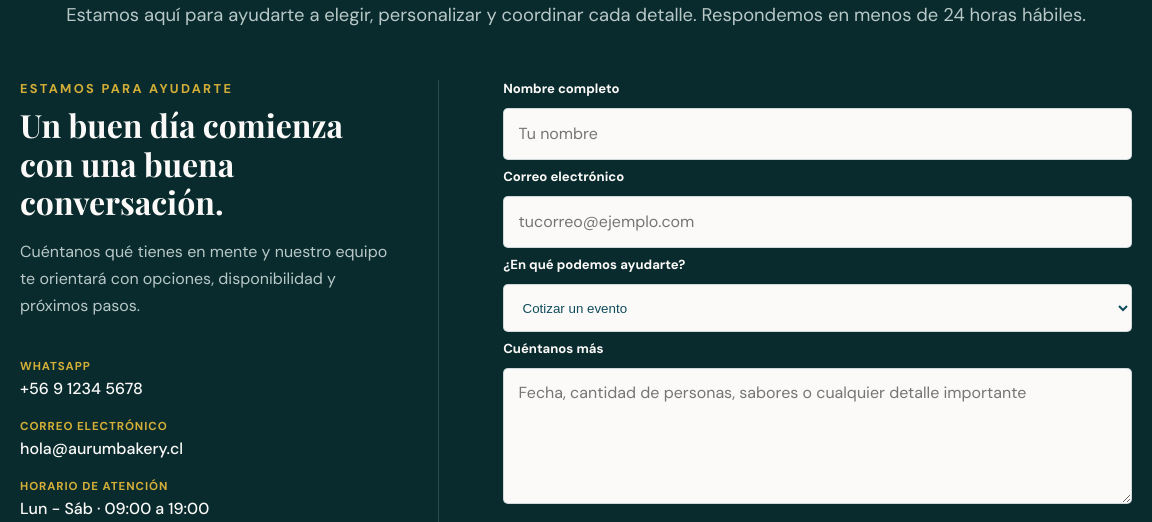
Test: Página de Contacto › muestra el mensaje de confirmación al simular el envío del formulario
The width and height of the screenshot is (1152, 522).
Llenamos los campos obligatorios primero
In the field labelled "Nombre completo": (818, 134) top-left (503, 108), bottom-right (1132, 160), type "Juan Perez"
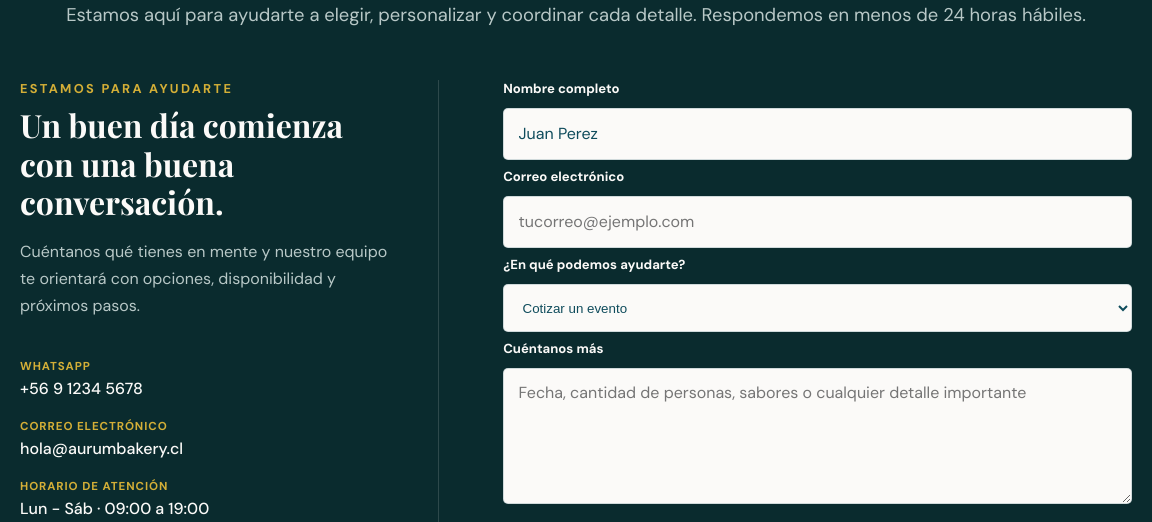
In the field labelled "Correo electrónico": (818, 222) top-left (503, 196), bottom-right (1132, 248), type "juan@ejemplo.com"
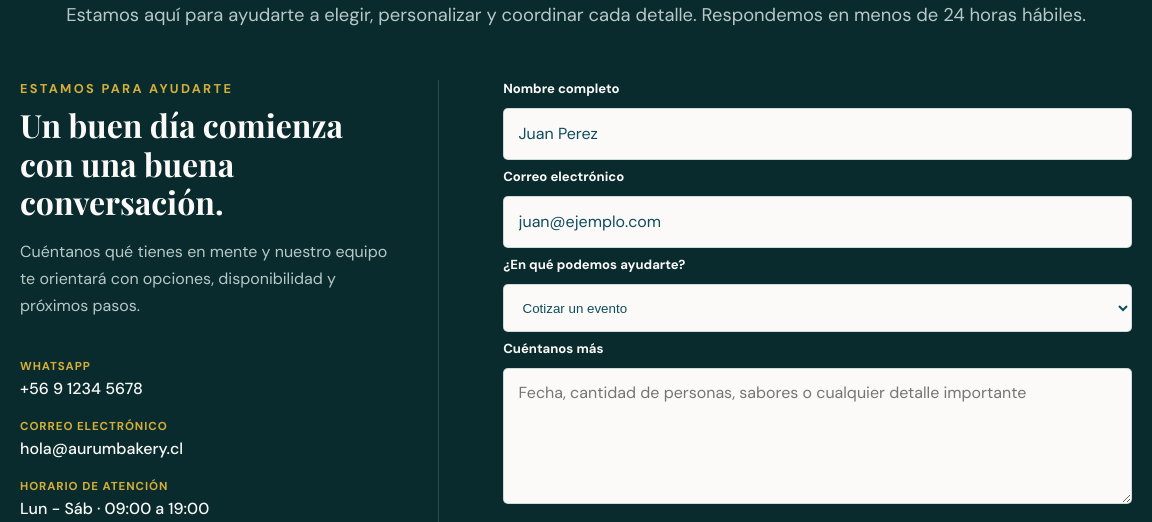
Replace the text in the text box labelled "Cuéntanos más" with "Cotización de prueba": (818, 436) top-left (503, 368), bottom-right (1132, 504)
(page scrolled)
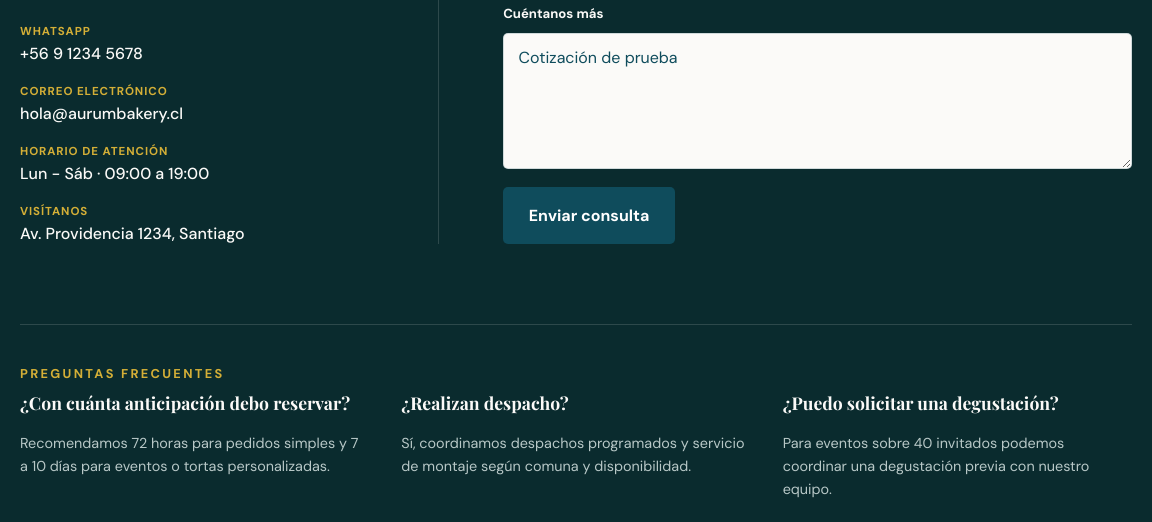
Hacemos clic en enviar
Click the button "Enviar consulta": (589, 216) top-left (503, 187), bottom-right (675, 244)
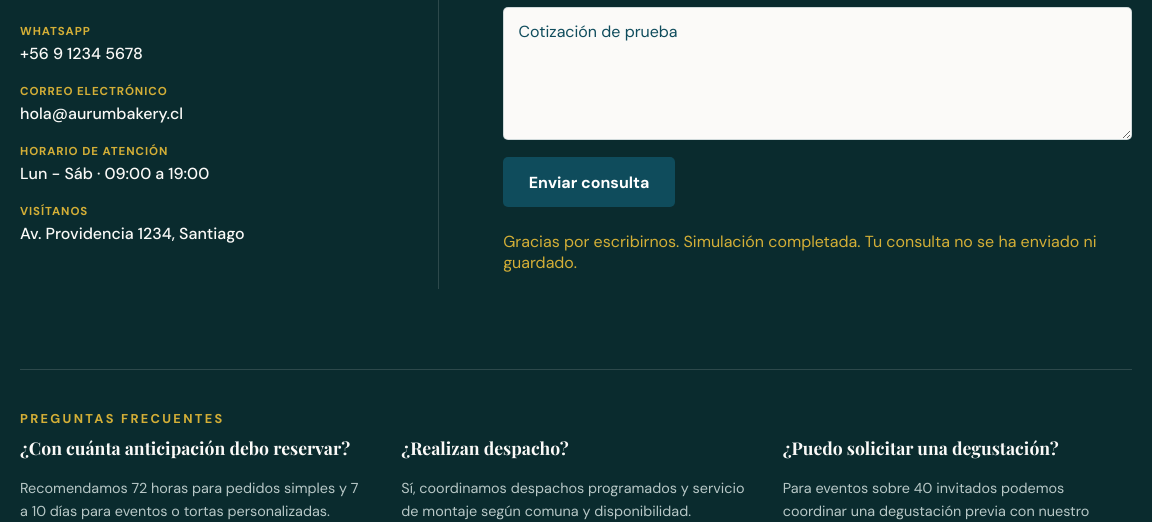
Expected: the message shows "Simulación completada. Tu consulta no se ha enviado ni guardado.", top-left (503, 231), bottom-right (1096, 273)
